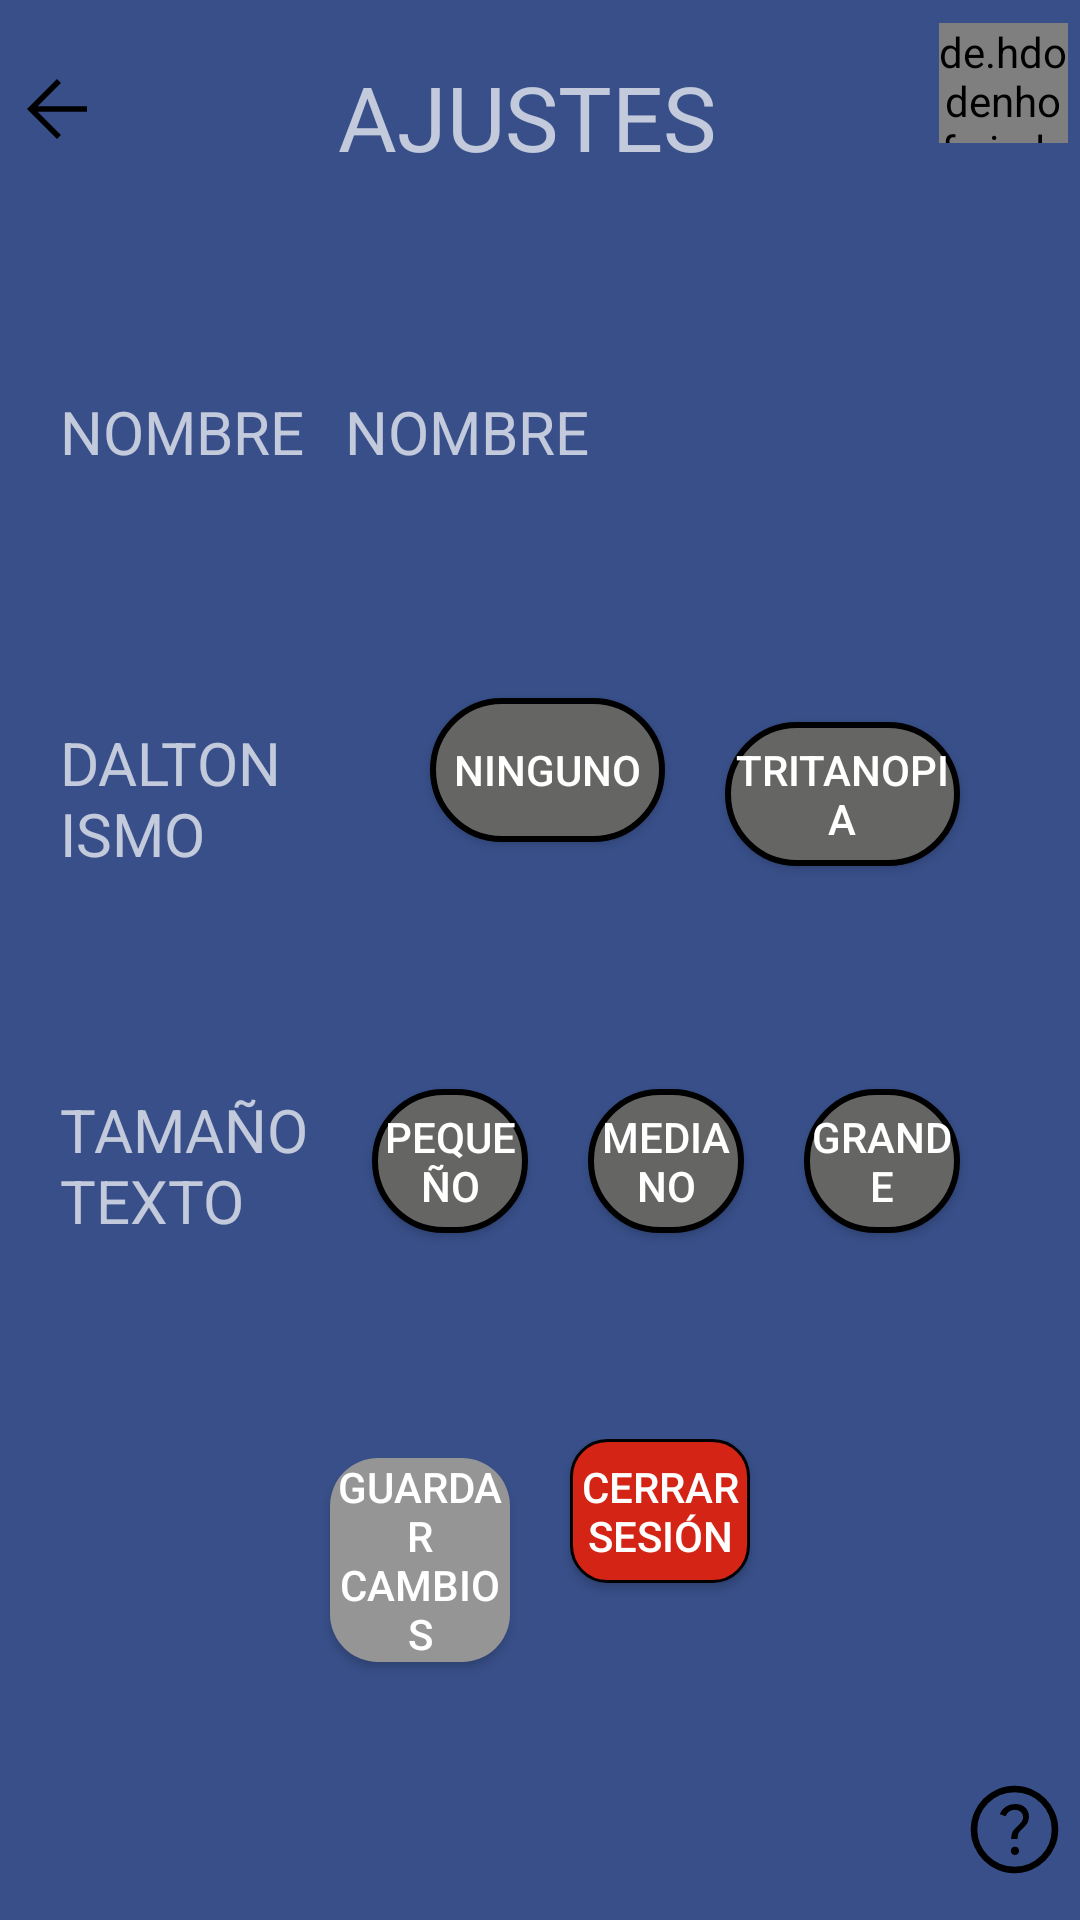

Screen size 1080 × 1920. Icon name, then its center in pixels as point (x, y):
arrow back android: point (57, 109)
help: point (1014, 1829)
